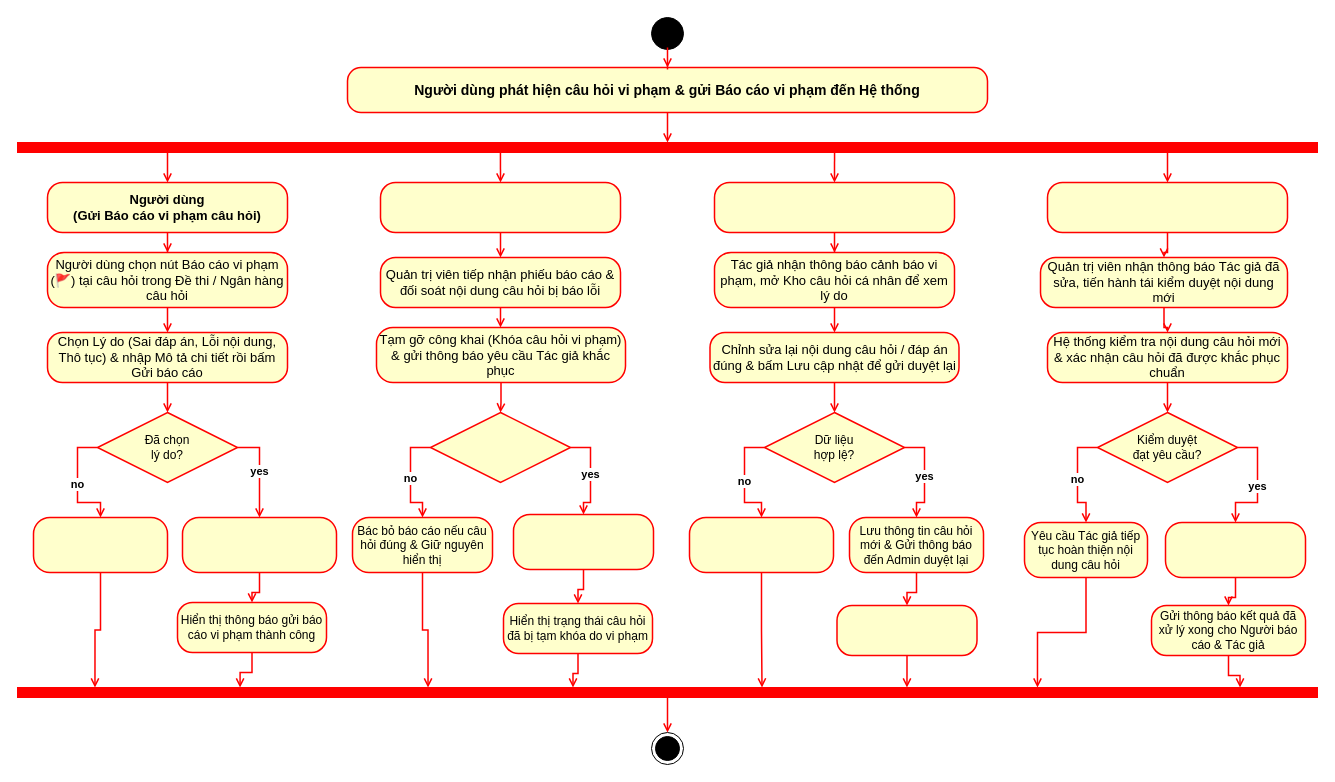
Some shapes in this 1335 by 782 pixel diagram are drawn without their labels. Each missing label, with the centre of its shape:
Duyệt mở công khai lại câu hỏi & Đóng phiếu báo cáo vi phạm: point (1235, 549)
Ghi nhận phiếu báo cáo vi phạm & Thông báo cho Admin + Tác giả: point (259, 544)
Gỡ công khai câu hỏi & Thông báo yêu cầu Tác giả chỉnh sửa: point (583, 541)
Quản trị viên (Admin) (Tiếp nhận & Tạm khóa câu hỏi): point (500, 207)
Quản trị viên (Admin) (Tái kiểm duyệt & Mở công khai lại): point (1167, 207)
Thông báo chọn Lý do vi phạm bắt buộc & Yêu cầu bổ sung: point (100, 544)
Thông báo thiếu nội dung bắt buộc & Yêu cầu sửa lại: point (761, 544)
Thông báo đã gửi yêu cầu duyệt lại câu hỏi thành công: point (906, 630)
Tác giả câu hỏi (Sửa lỗi & Gửi duyệt lại): point (834, 207)
Xác nhận vi phạm?: point (500, 447)
